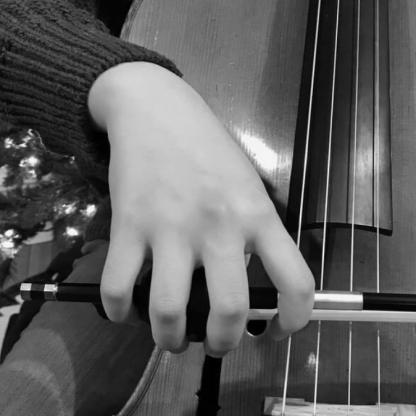good: (89, 159, 325, 357)
